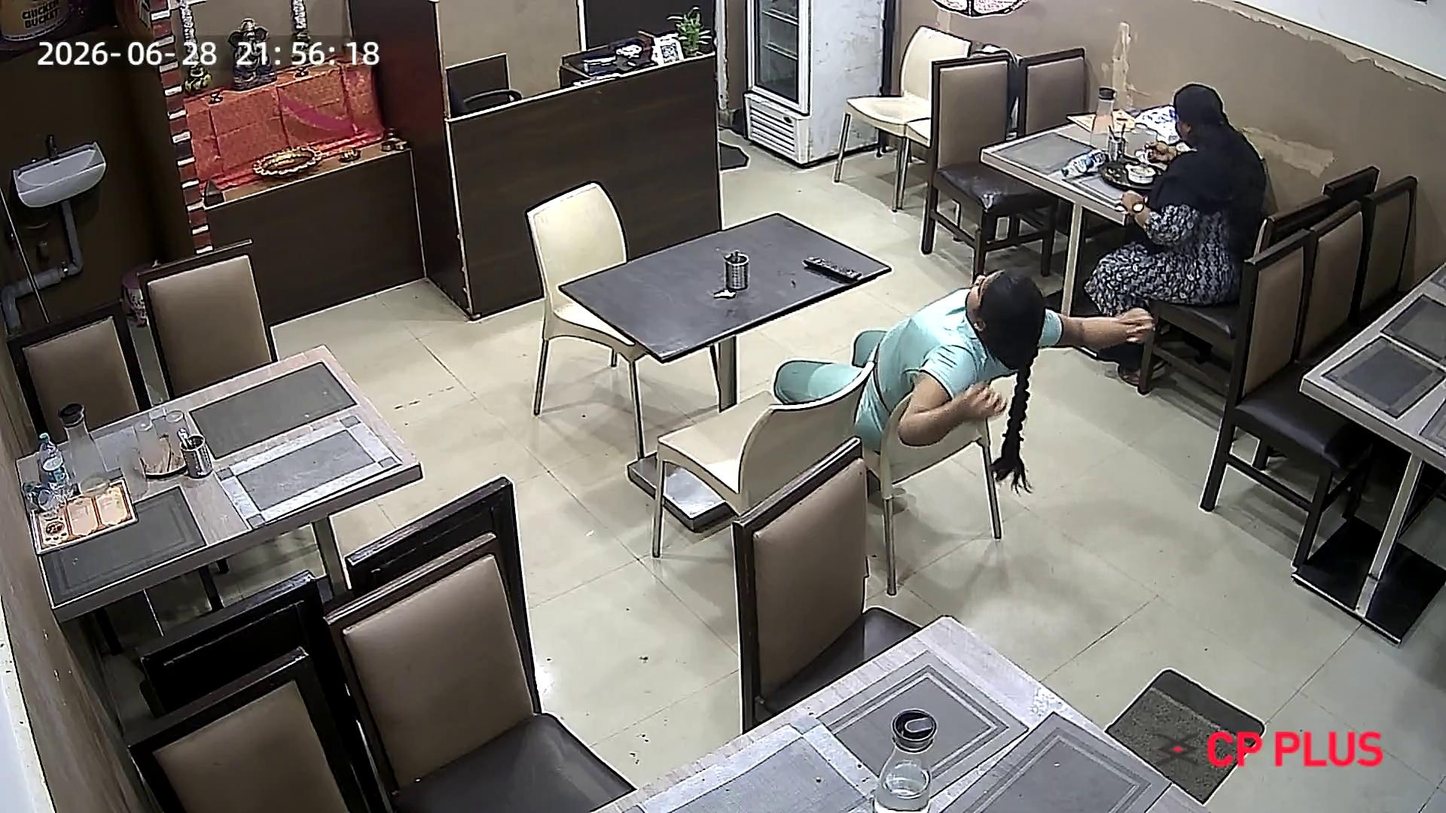clean: (695, 612, 1092, 813)
dirty: (9, 337, 428, 608)
occupied: (551, 200, 1080, 428), (1010, 89, 1329, 259)
